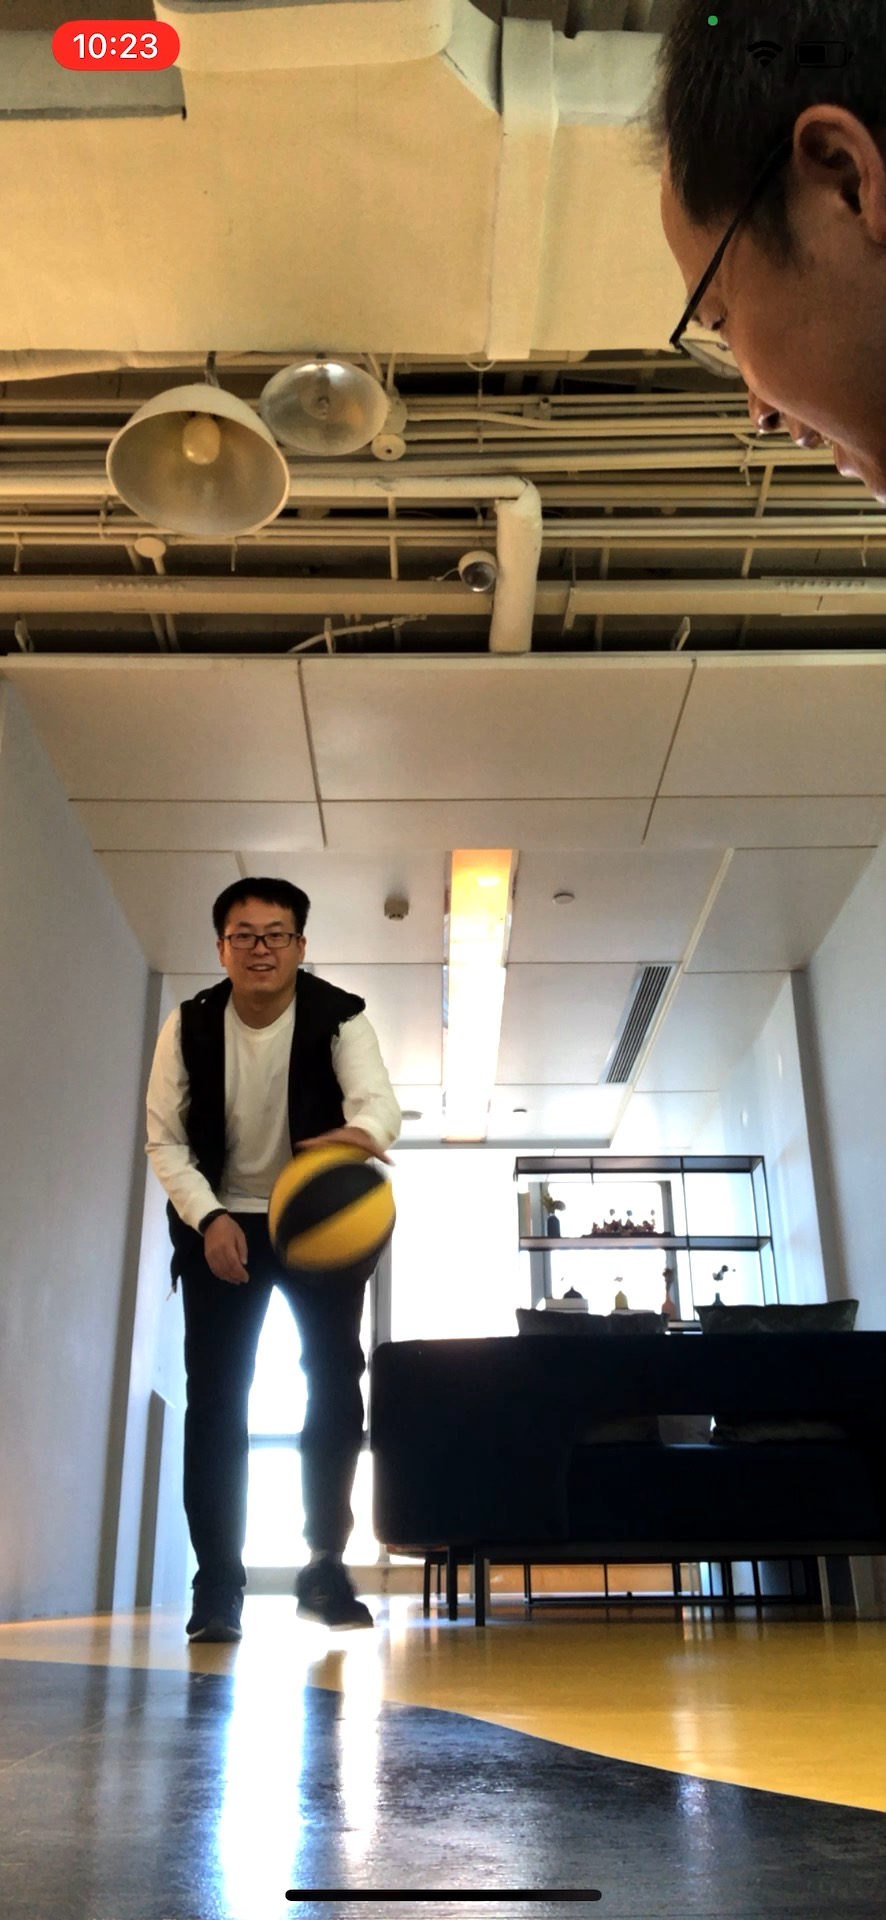ball: (270, 1142, 398, 1276)
